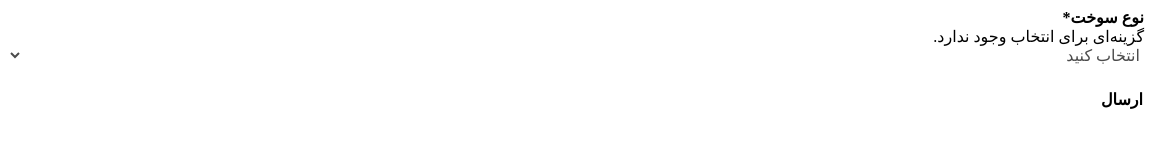
Test case: validation timing › blocks a required select that has no options (EC-02)
Click the button "ارسال" at [1122, 100], box x1=1100 y1=89 x2=1144 y2=110
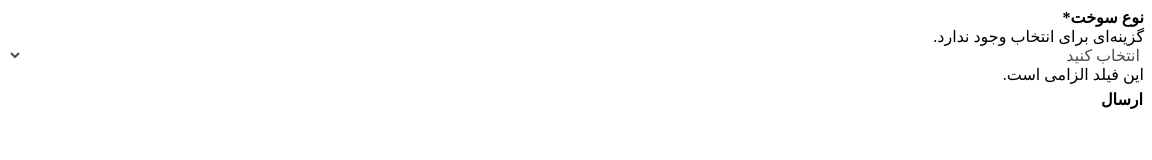
Check: the text "این فیلد الزامی است." is shown, box x1=1003 y1=66 x2=1144 y2=83
